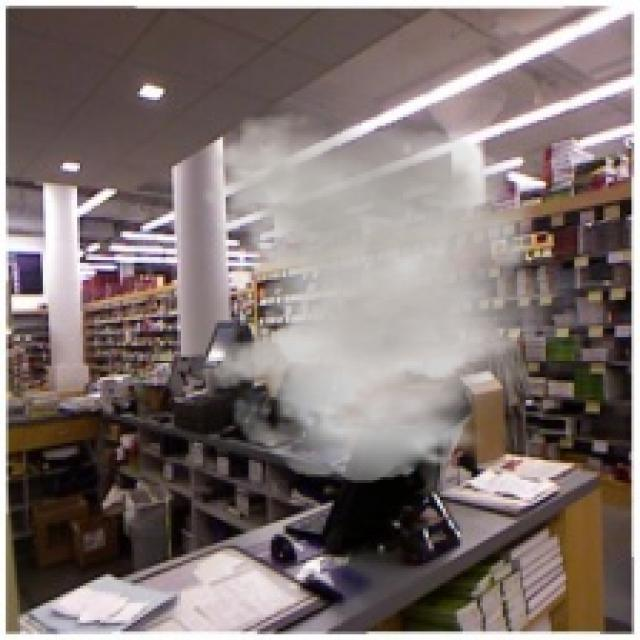smoke: (197, 111, 586, 483)
